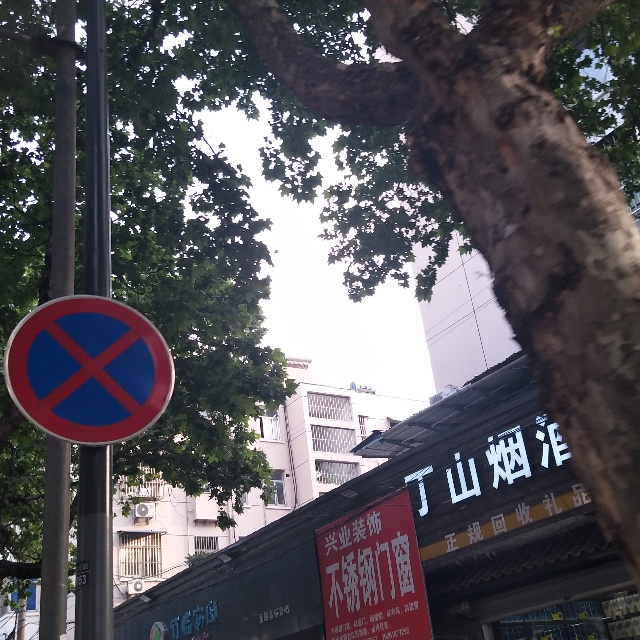stop: (19, 306, 165, 434)
